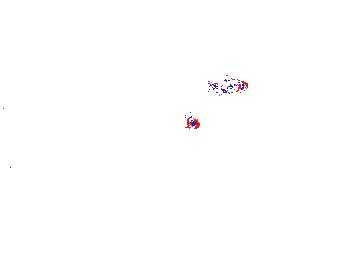red belly glassfish: (206, 76, 251, 96), (179, 110, 200, 136)
